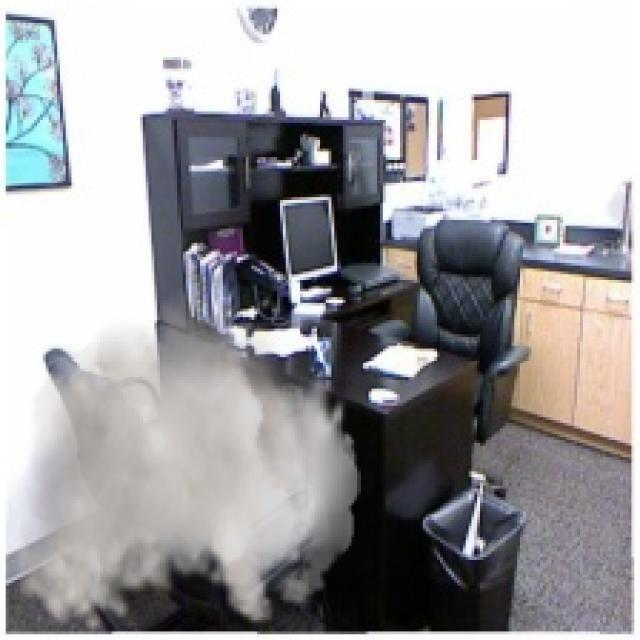Smoke: (14, 274, 360, 634)
